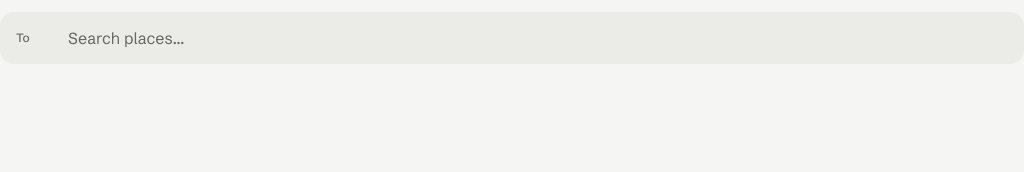
PlaceField combobox › says so when nothing matches
In the dropdown: (544, 38) top-left (68, 12), bottom-right (1020, 64), type "zzz"
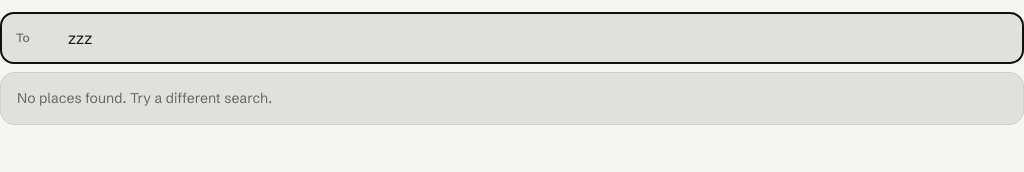
Expected: the message shows "No places found", top-left (17, 89), bottom-right (272, 107)
